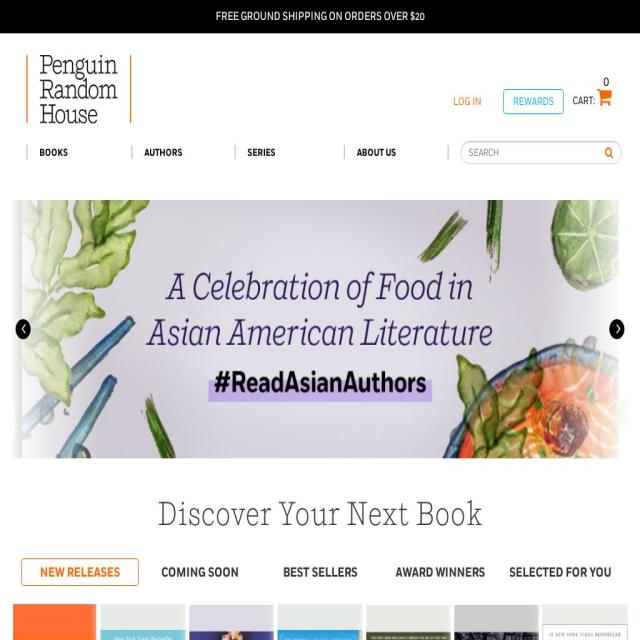button: (234, 146, 344, 160), (503, 89, 564, 114), (27, 146, 132, 160), (343, 146, 448, 160), (132, 146, 235, 160), (441, 89, 494, 114), (15, 319, 30, 339), (610, 319, 624, 339)
field: (460, 141, 622, 164), (599, 136, 619, 169)
heading: (8, 498, 632, 535), (21, 558, 139, 586), (141, 558, 259, 586), (261, 558, 379, 586), (381, 558, 499, 586), (501, 558, 619, 586)
image: (537, 199, 640, 458), (0, 199, 102, 458), (27, 55, 132, 123), (13, 604, 97, 640)
text: (21, 200, 619, 458), (0, 0, 640, 33), (0, 200, 22, 458), (618, 200, 640, 458), (572, 94, 597, 108), (598, 73, 614, 92)
